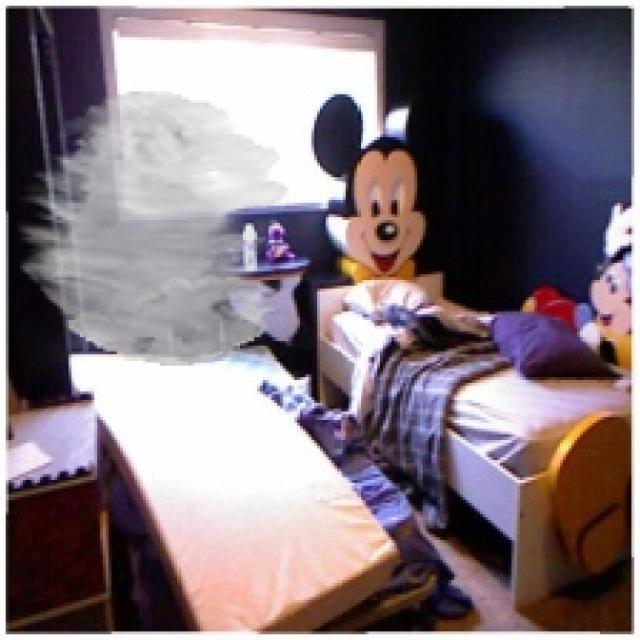Smoke: (17, 91, 289, 366)
